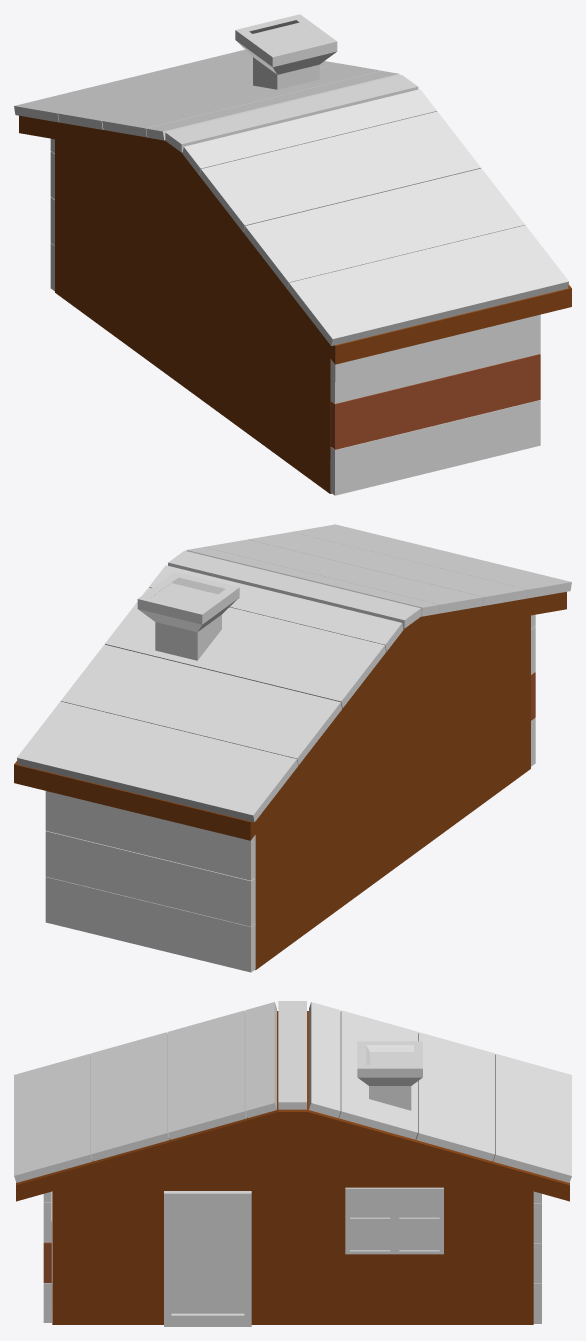
File: chalet en bois.fbx
3 renders of one model, top to bottom at view 1: azimuth 30°, elevation 25°; view 2: azimuth 150°, elevation 25°; view 3: azimuth 270°, elevation 25°, orthographic. The views are drawn at different scales.
Parts seen in each view (by area): view 1: Cube, Cube 001, Cube.003, Cube.002, Cube.001, Cube 001.001, Cube.010, Cube.004, Cube.015, Cube.005, Cube.006, Cube.008 (+2 smaller); view 2: Cube, Cube.006, Cube.007, Cube.008, Cube.012, Cube 001.002, Cube.013, Cube.015, Cube.009, Cube.002, Cube.003, Cube 001 (+2 smaller); view 3: Cube, Cube.016, Cube.003, Cube.002, Cube 001, Cube.006, Cube.007, Cube.017, Cube.008, Cube.015, Cube.004, Cube.009 (+3 smaller).
Boxes of the visible parts, bbox=[...] form: Cube: bbox=[19, 115, 571, 493]; Cube 001: bbox=[287, 225, 568, 345]; Cube.003: bbox=[199, 111, 480, 232]; Cube.002: bbox=[244, 168, 524, 289]; Cube.001: bbox=[330, 354, 540, 449]; Cube 001.001: bbox=[330, 400, 540, 495]; Cube.010: bbox=[330, 314, 540, 403]; Cube.004: bbox=[182, 89, 436, 175]; Cube.015: bbox=[235, 14, 337, 89]; Cube.005: bbox=[165, 74, 418, 152]; Cube.006: bbox=[14, 49, 252, 122]; Cube.008: bbox=[102, 63, 381, 137]; Cube: bbox=[14, 592, 566, 970]; Cube.006: bbox=[17, 701, 298, 822]; Cube.007: bbox=[61, 644, 341, 765]; Cube.008: bbox=[105, 587, 386, 708]; Cube.012: bbox=[45, 831, 255, 926]; Cube 001.002: bbox=[45, 877, 255, 972]; Cube.013: bbox=[45, 791, 255, 880]; Cube.015: bbox=[137, 571, 239, 660]; Cube.009: bbox=[149, 565, 403, 651]; Cube.002: bbox=[248, 532, 527, 605]; Cube.003: bbox=[204, 539, 483, 613]; Cube 001: bbox=[292, 524, 571, 598]; Cube: bbox=[16, 1011, 569, 1324]; Cube.016: bbox=[164, 1191, 251, 1326]; Cube.003: bbox=[168, 1010, 246, 1139]; Cube.002: bbox=[91, 1032, 169, 1161]; Cube 001: bbox=[14, 1053, 92, 1182]; Cube.006: bbox=[493, 1054, 571, 1182]; Cube.007: bbox=[416, 1032, 494, 1161]; Cube.017: bbox=[345, 1187, 443, 1254]; Cube.008: bbox=[339, 1010, 417, 1139]; Cube.015: bbox=[357, 1041, 422, 1110]; Cube.004: bbox=[245, 1002, 276, 1117]; Cube.009: bbox=[309, 1002, 340, 1117].
Size of the model in its own units: 1169 by 1303 by 2683.
